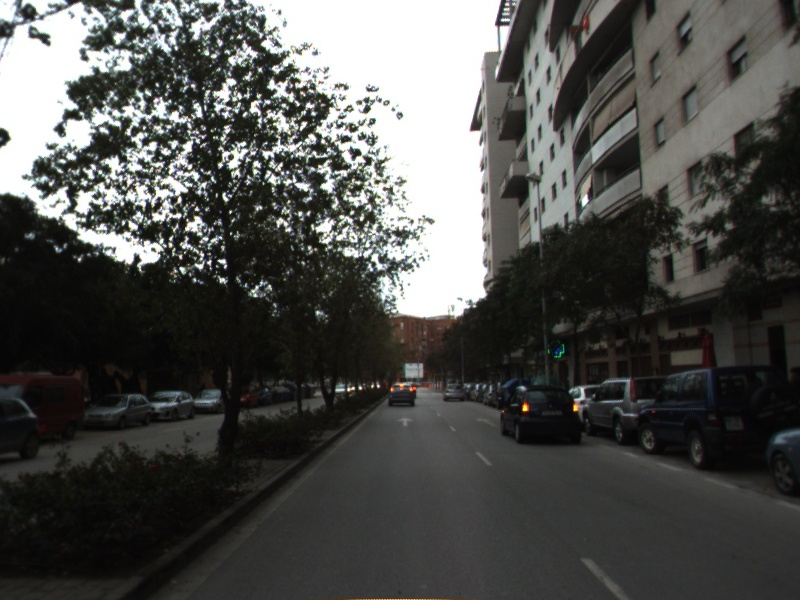STRAIGHT: (473, 415, 500, 428), (393, 415, 417, 429)
